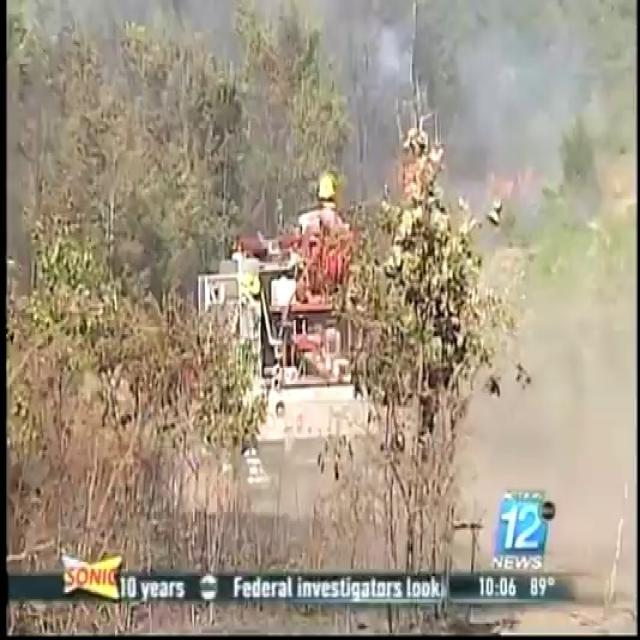Smoke: (440, 0, 633, 516)
